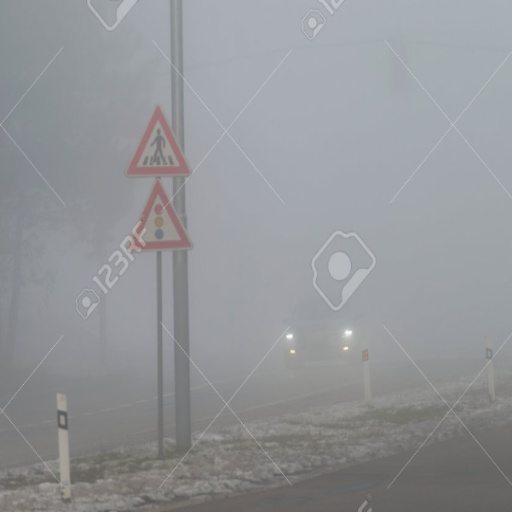Pedestrian crossing: (120, 100, 194, 178)
Traffic lights: (121, 178, 201, 255)
